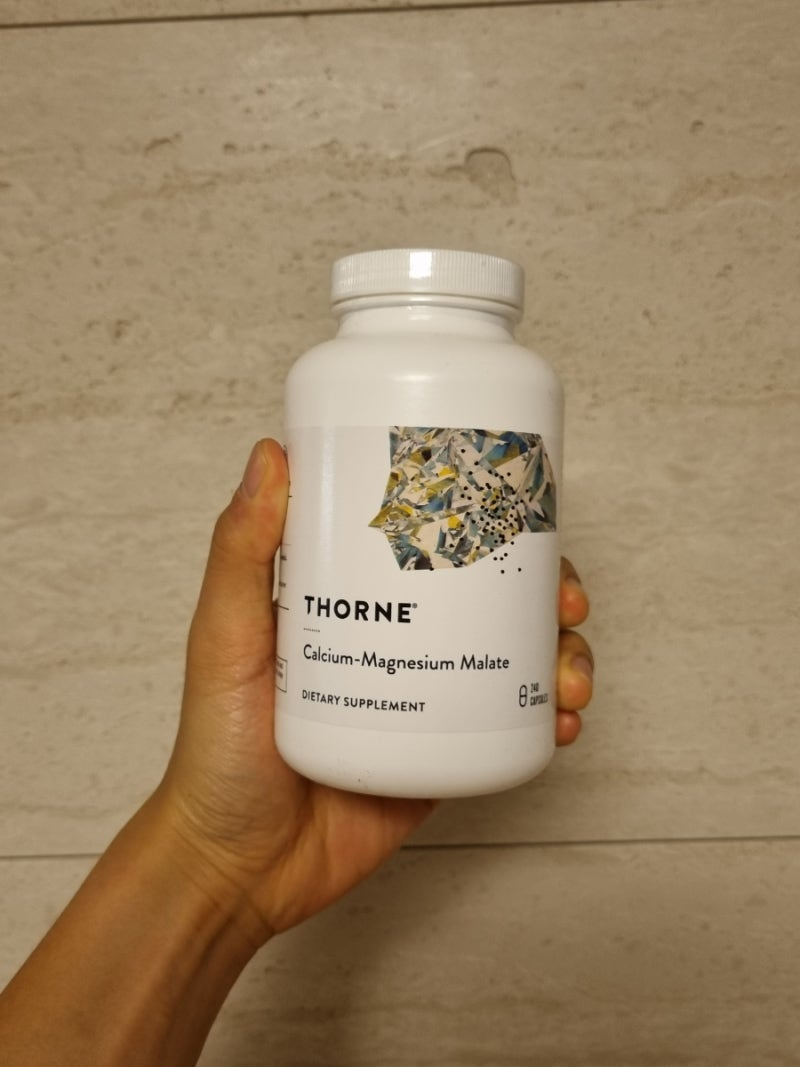supplement_label: (272, 414, 569, 738)
